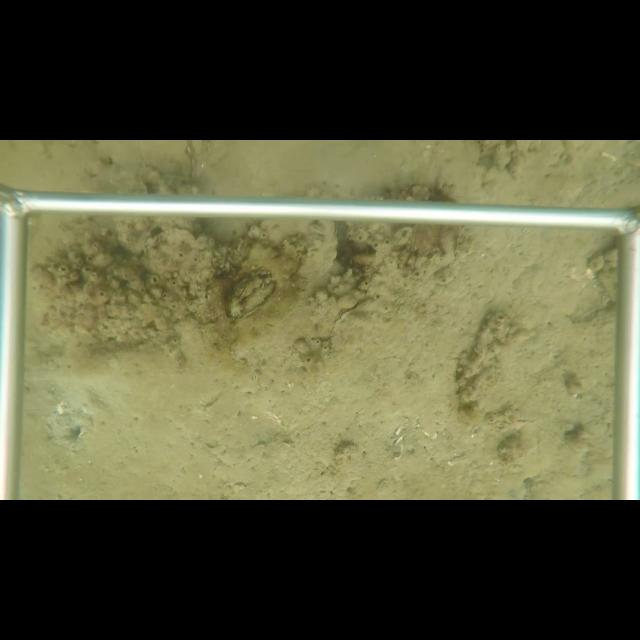Oyster-Closed: (260, 220, 341, 289), (328, 296, 393, 364)
